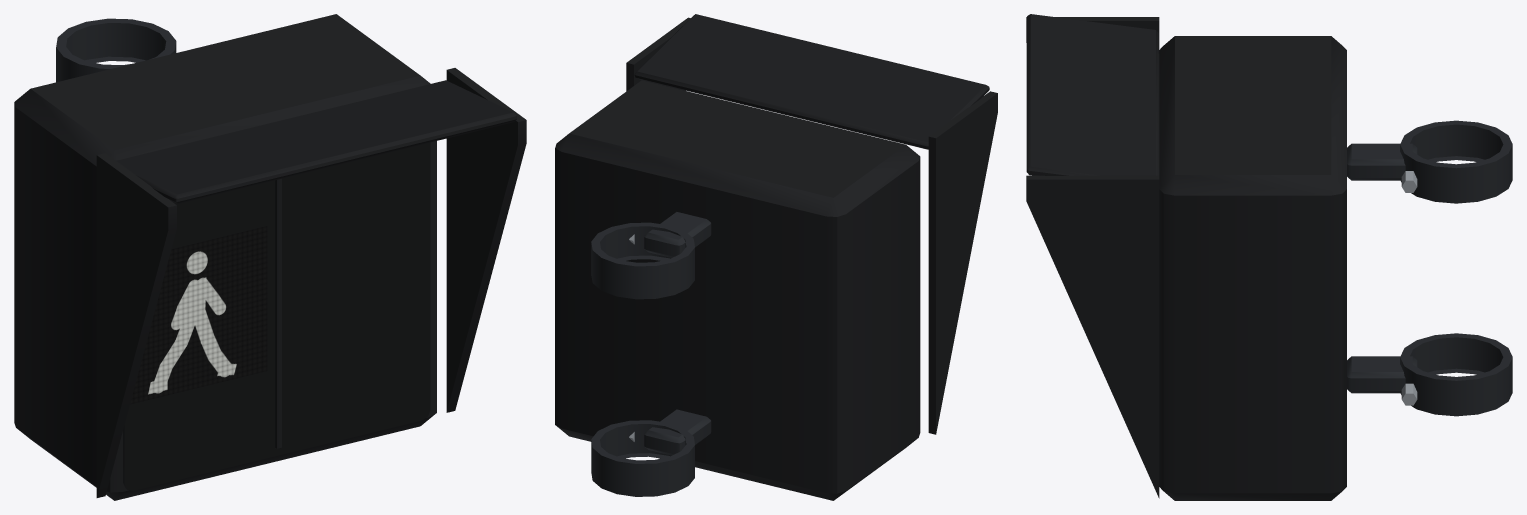
File: PedSignal.fbx
The picture shows the model from 3 angles, left to right: view 1: azimuth 30°, elevation 25°; view 2: azimuth 150°, elevation 25°; view 3: azimuth 270°, elevation 25°; orthographic projection. The views are drawn at different scales.
Visible parts, largest first — view 1: PedSignal_Mesh; view 2: PedSignal_Mesh; view 3: PedSignal_Mesh.
Part boxes in pixels (bbox=[...]): PedSignal_Mesh: bbox=[14, 14, 526, 500]; PedSignal_Mesh: bbox=[555, 14, 997, 500]; PedSignal_Mesh: bbox=[1026, 14, 1512, 500].
Bounding box in the file's own units: 0.492 × 0.4812 × 0.622.
